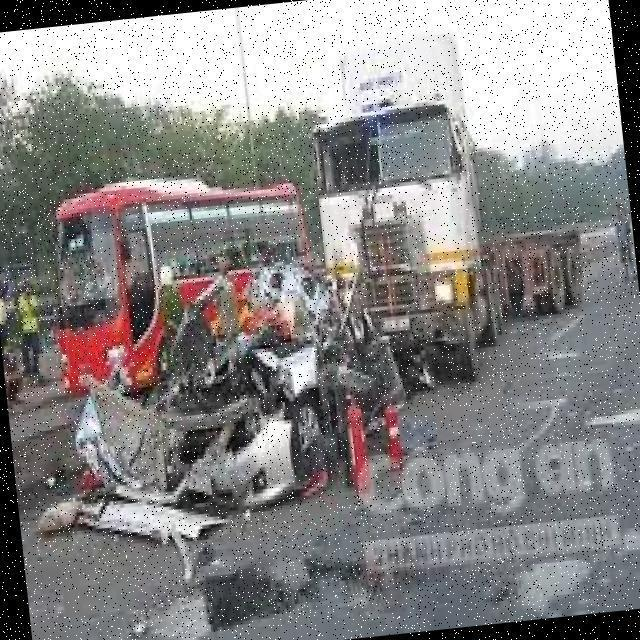accident: (26, 223, 508, 562), (298, 91, 505, 412)
